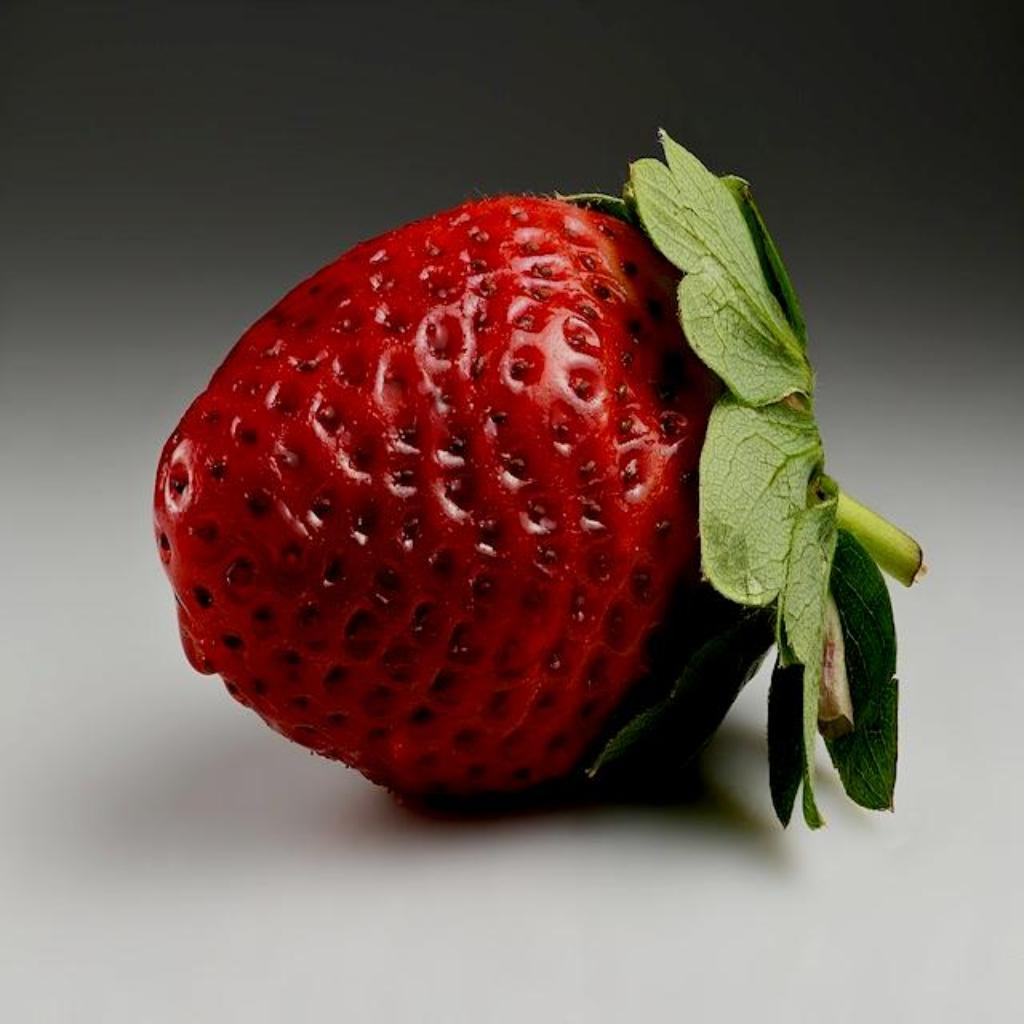strawberry: (154, 134, 922, 825)
